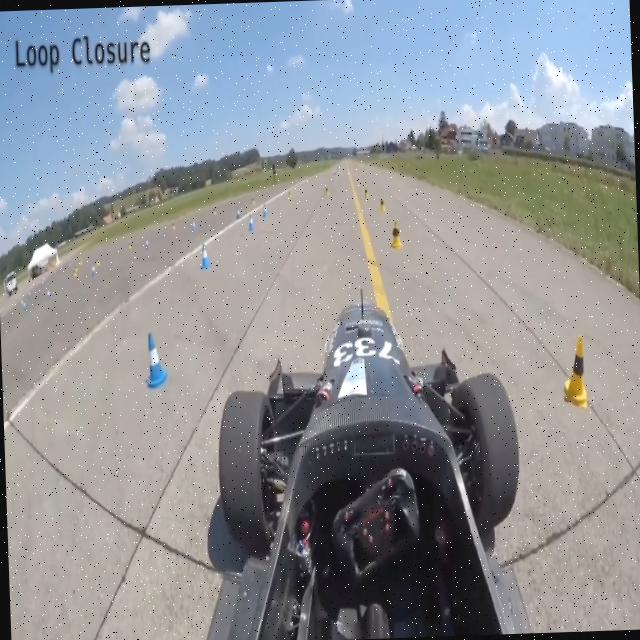blue_cone: (144, 332, 170, 390), (200, 242, 210, 270)
yellow_cone: (564, 334, 588, 409), (388, 219, 402, 249)
